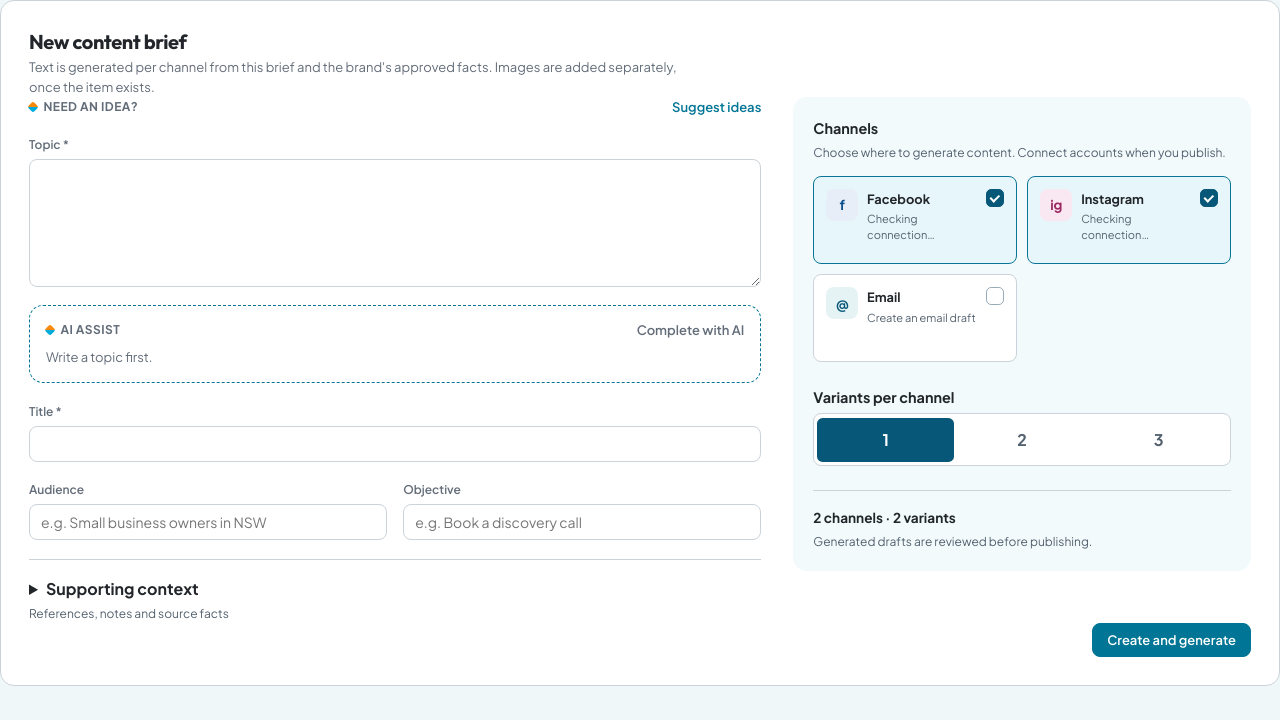
Test case: BriefForm › reports a failed create
Type "Spring workshop" into the field labelled "Title *" at (395, 444), box x1=29 y1=426 x2=761 y2=462
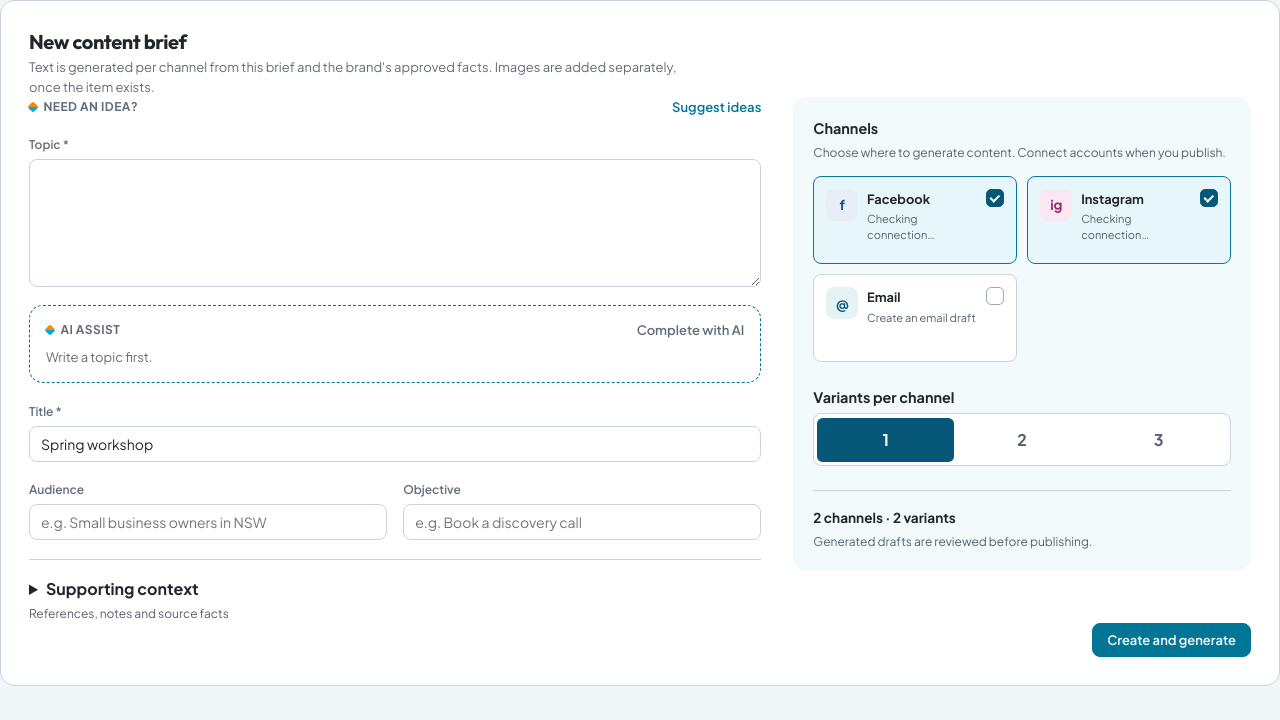
Type "Launch of the spring workshop" into the text box labelled "Topic *" at (395, 223), box x1=29 y1=159 x2=761 y2=287
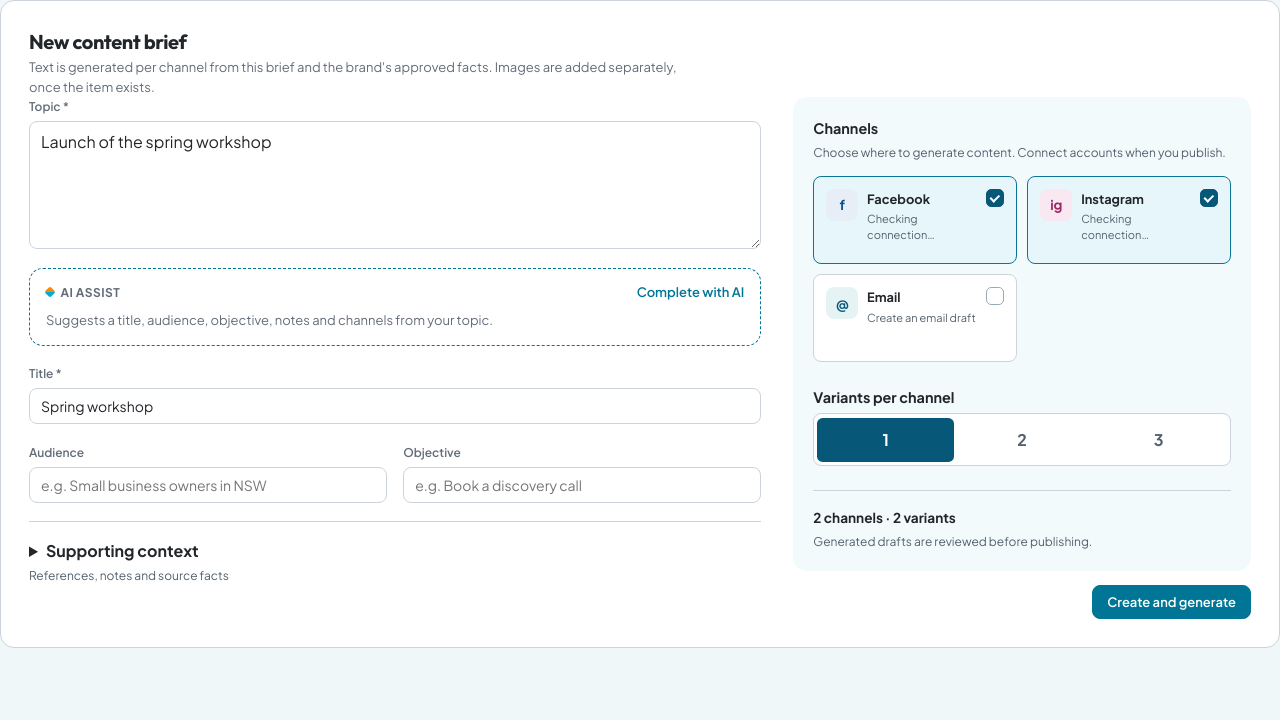
Click the button "Create and generate" at (1172, 602), box x1=1092 y1=585 x2=1251 y2=619
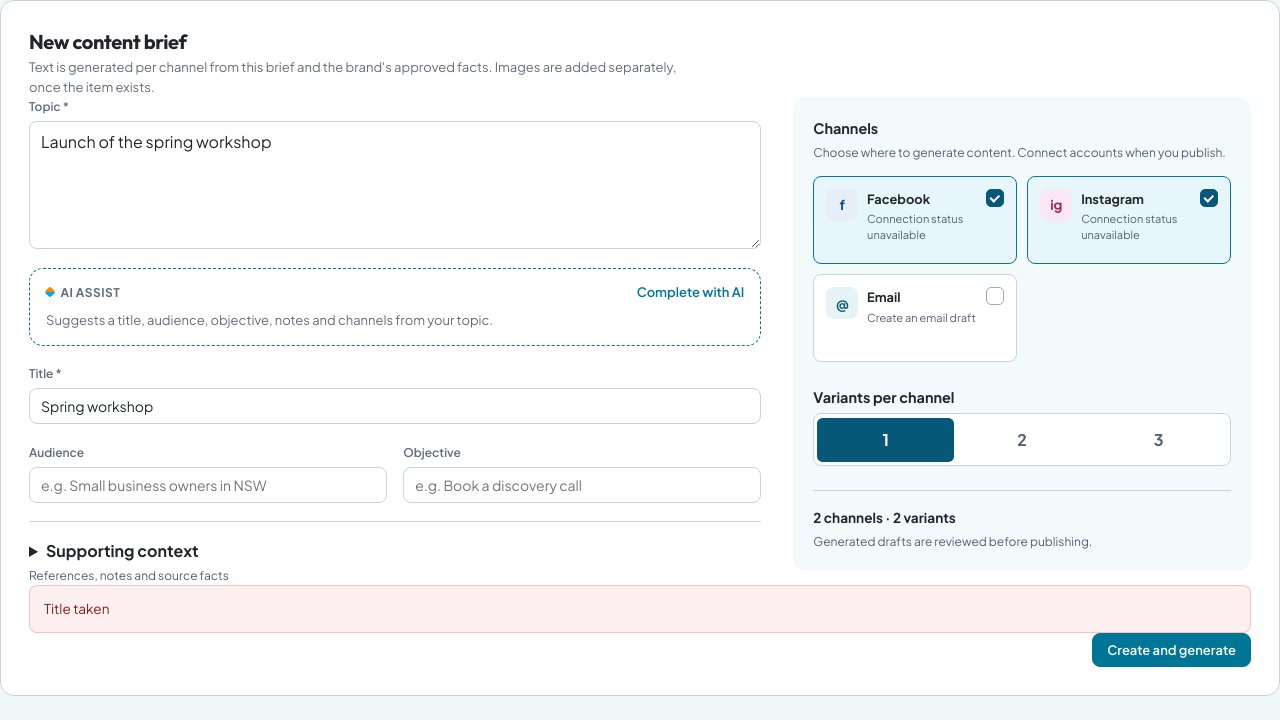
Result: the message reads "Title taken" at x1=44 y1=600 x2=110 y2=617
